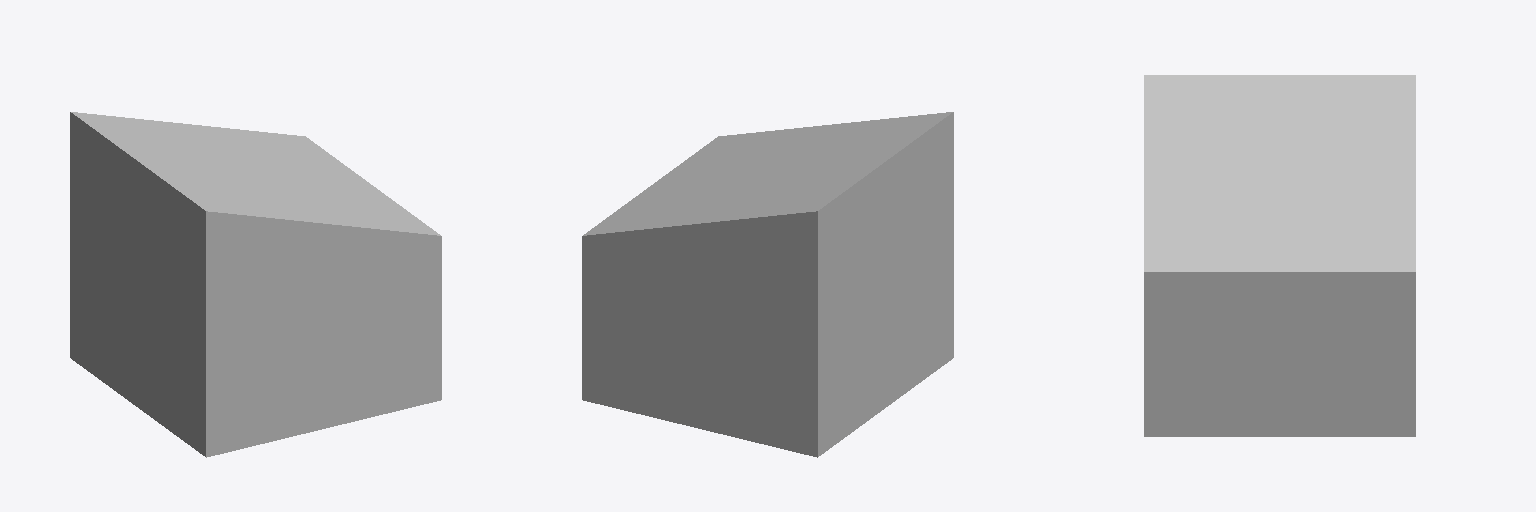
Rendered from Ramps.obj.
The picture shows the model from 3 angles: view 1: azimuth 30°, elevation 25°; view 2: azimuth 150°, elevation 25°; view 3: azimuth 270°, elevation 25°; orthographic projection.
Parts seen in each view (by area): view 1: Ramp 1_Cube, Ramp 3_3_Cube.005, Ramp 2_2_Cube.001, Ramp 3_2_Cube.006, Ramp 2_1_Cube.004, Ramp 3_1_Cube.003; view 2: Ramp 1_Cube, Ramp 3_3_Cube.005, Ramp 2_2_Cube.001, Ramp 2_1_Cube.004, Ramp 3_2_Cube.006, Ramp 3_1_Cube.003; view 3: Ramp 3_3_Cube.005, Ramp 2_2_Cube.001, Ramp 3_2_Cube.006.
Part boxes in pixels (left/top/right/bottom): Ramp 1_Cube: left=70, top=112, right=440, bottom=457; Ramp 3_3_Cube.005: left=71, top=112, right=441, bottom=398; Ramp 2_2_Cube.001: left=206, top=211, right=441, bottom=456; Ramp 3_2_Cube.006: left=70, top=194, right=441, bottom=454; Ramp 2_1_Cube.004: left=70, top=240, right=440, bottom=456; Ramp 3_1_Cube.003: left=70, top=278, right=436, bottom=454; Ramp 1_Cube: left=583, top=112, right=953, bottom=457; Ramp 3_3_Cube.005: left=582, top=112, right=952, bottom=456; Ramp 2_2_Cube.001: left=582, top=212, right=817, bottom=456; Ramp 2_1_Cube.004: left=585, top=235, right=953, bottom=455; Ramp 3_2_Cube.006: left=583, top=195, right=953, bottom=455; Ramp 3_1_Cube.003: left=585, top=277, right=953, bottom=456; Ramp 3_3_Cube.005: left=1144, top=75, right=1415, bottom=436; Ramp 2_2_Cube.001: left=1144, top=313, right=1415, bottom=436; Ramp 3_2_Cube.006: left=1144, top=355, right=1415, bottom=436.
Bounding box in the file's own units: 2 × 2 × 2.